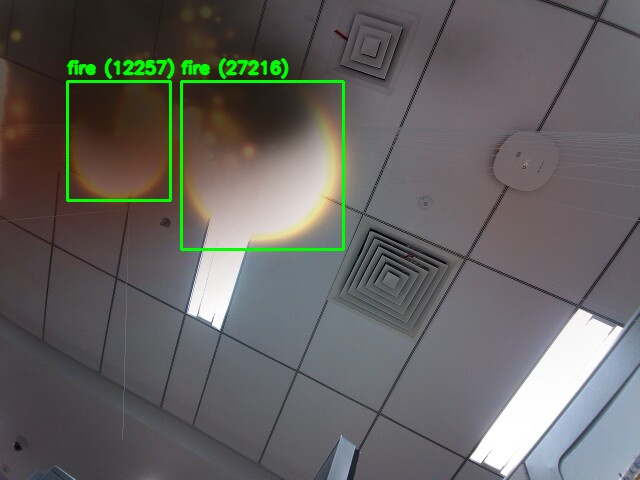fire: (181, 81, 343, 249), (67, 81, 170, 200)
